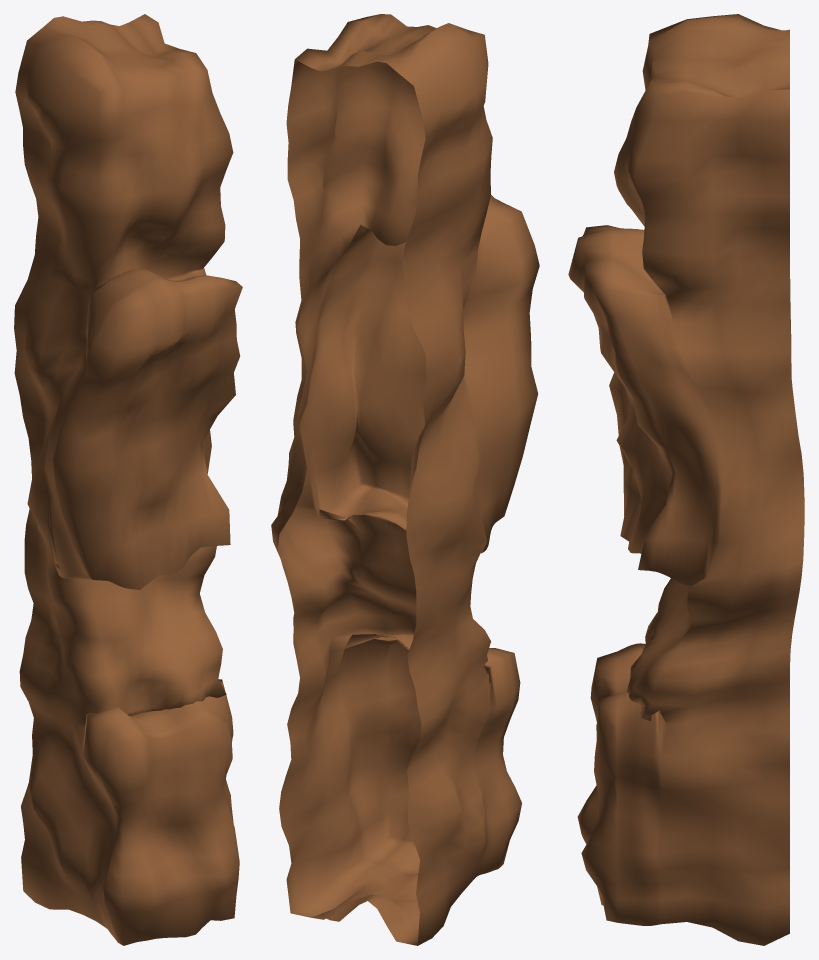
File: stone2.fbx
3 views of the same model, side by side, from view 1: azimuth 30°, elevation 25°; view 2: azimuth 150°, elevation 25°; view 3: azimuth 270°, elevation 25° (orthographic).
Parts seen in each view (by area): view 1: stone2; view 2: stone2; view 3: stone2.
Boxes of the visible parts, left/top/right/bottom form: stone2: left=14, top=14, right=242, bottom=945; stone2: left=271, top=14, right=539, bottom=945; stone2: left=568, top=14, right=804, bottom=945.
Bounding box in the file's own units: 747 × 3226 × 788.
